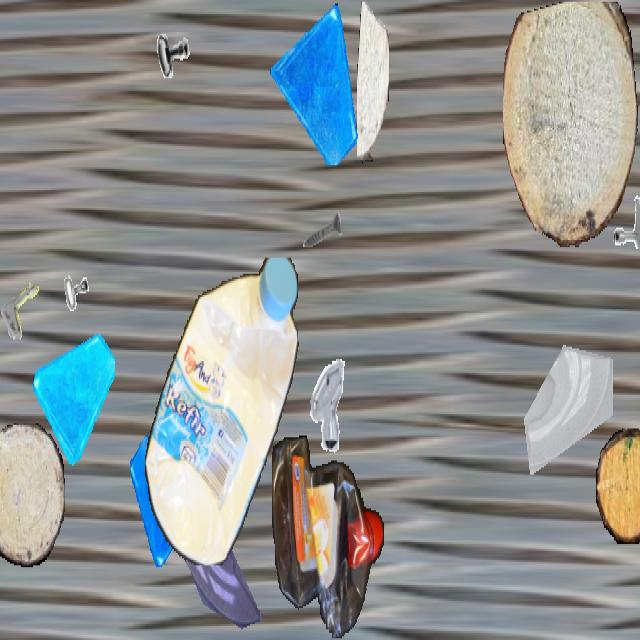glass: (520, 309, 612, 473), (270, 2, 362, 165), (177, 489, 261, 638), (33, 320, 115, 466), (130, 432, 206, 567)
metal: (0, 251, 57, 357), (296, 351, 354, 454), (51, 268, 101, 358), (301, 192, 343, 267), (602, 174, 640, 249), (153, 16, 193, 87)
plastic: (144, 257, 300, 564), (272, 436, 384, 638)
wood: (503, 2, 637, 247), (0, 423, 65, 565), (357, 2, 389, 162), (596, 428, 640, 542)
